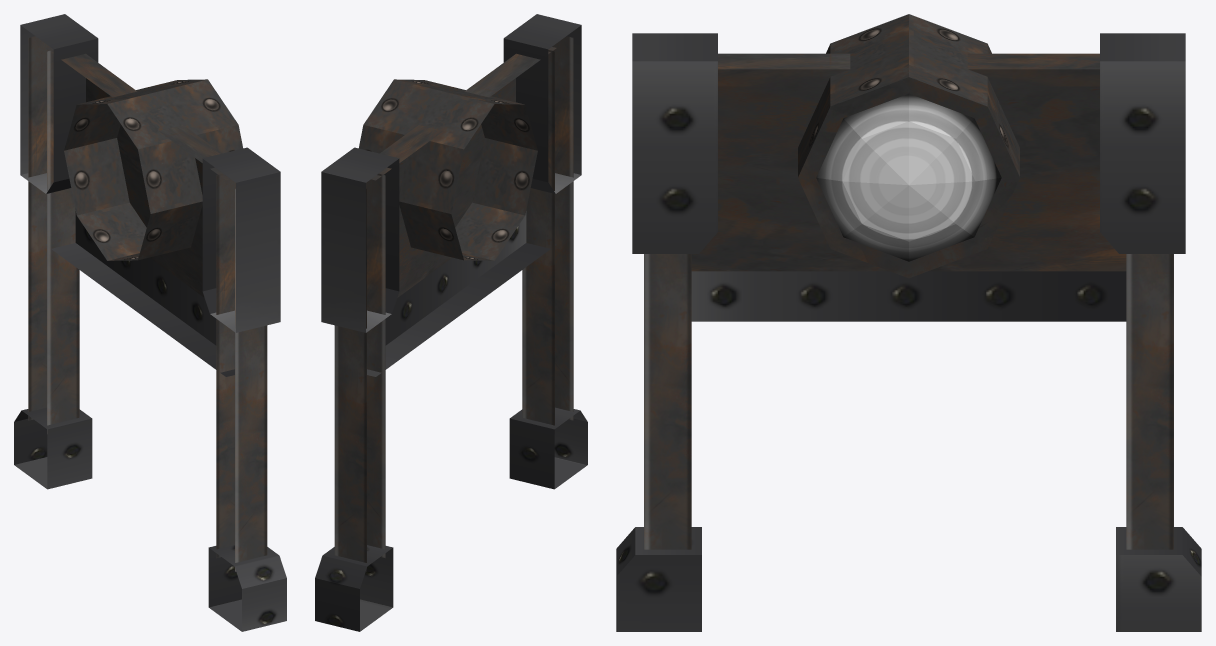
The model's file is conveyor_belt_portal.fbx.
3 renders of one model, left to right at view 1: azimuth 30°, elevation 25°; view 2: azimuth 150°, elevation 25°; view 3: azimuth 270°, elevation 25°, orthographic. The views are drawn at different scales.
Parts seen in each view (by area): view 1: conveyor_belt_portal; view 2: conveyor_belt_portal; view 3: conveyor_belt_portal.
Boxes of the visible parts, box(x1,y1,x2,y2) form: conveyor_belt_portal: box(14, 14, 286, 631); conveyor_belt_portal: box(315, 14, 587, 631); conveyor_belt_portal: box(616, 14, 1201, 631).
Bounding box in the file's own units: 189 × 721 × 663.
